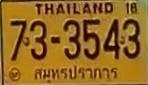3: (122, 18, 140, 58), (63, 19, 80, 59), (29, 20, 46, 59)
4: (103, 18, 119, 58)
5: (82, 18, 99, 59)
7: (10, 20, 26, 60)
SPK: (32, 65, 120, 82)
